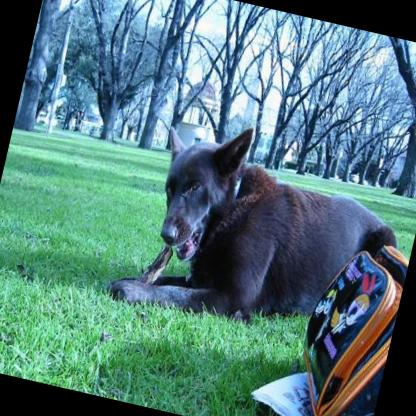kelpie: (106, 102, 414, 357)
